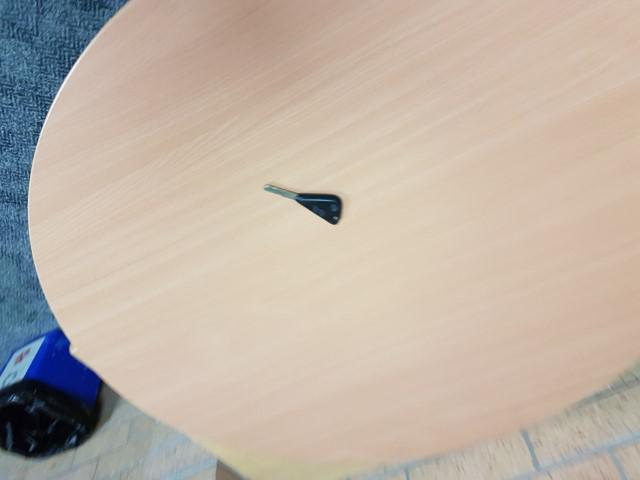key: (262, 178, 346, 229)
